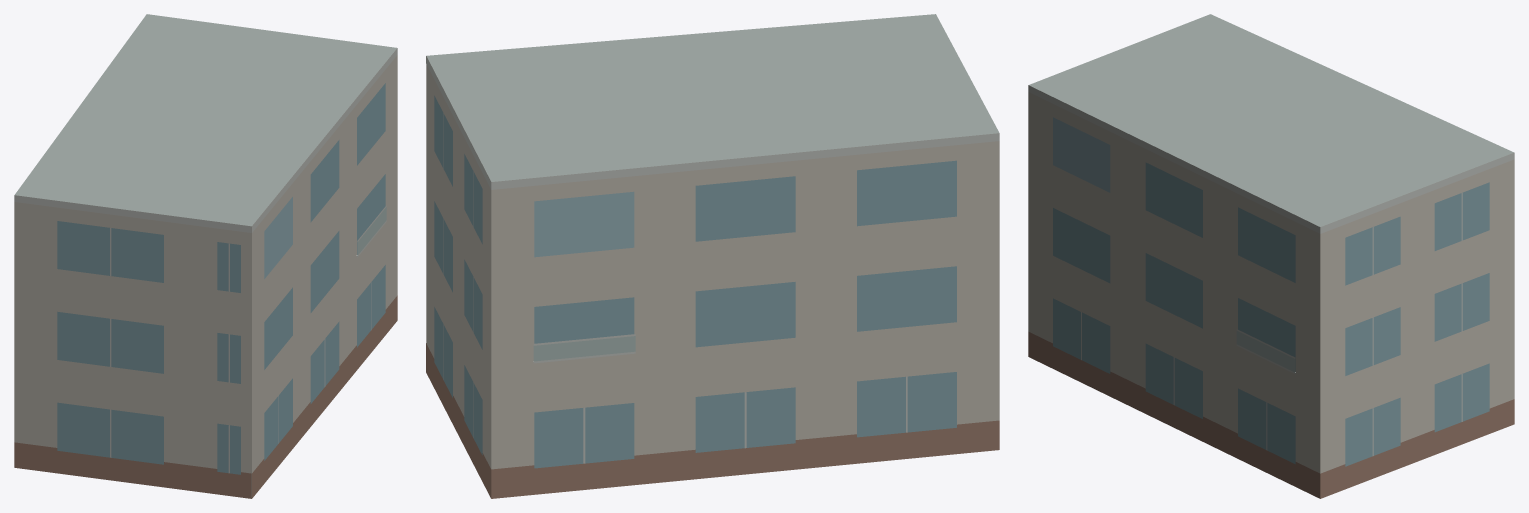
File: survey-upis-32964052.glb
3 renders of one model, left to right at view 1: azimuth 30°, elevation 25°; view 2: azimuth 150°, elevation 25°; view 3: azimuth 270°, elevation 25°, orthographic. The views are drawn at different scales.
Visible parts, largest first — view 1: survey-upis-32964052.tmp; view 2: survey-upis-32964052.tmp; view 3: survey-upis-32964052.tmp.
Boxes of the visible parts, box(x1,y1,x2,y2) form: survey-upis-32964052.tmp: box(14, 14, 397, 498); survey-upis-32964052.tmp: box(426, 14, 999, 498); survey-upis-32964052.tmp: box(1028, 14, 1514, 498).
Size of the model in its own units: 16.5 by 9.8 by 15.9.
